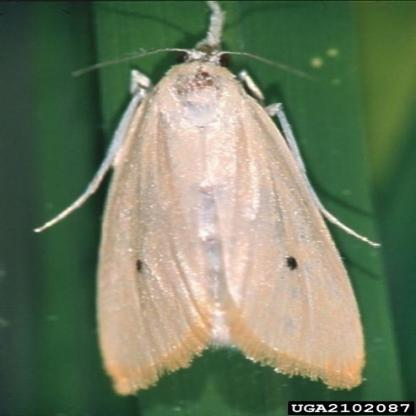stem-borer: (33, 0, 385, 396)
